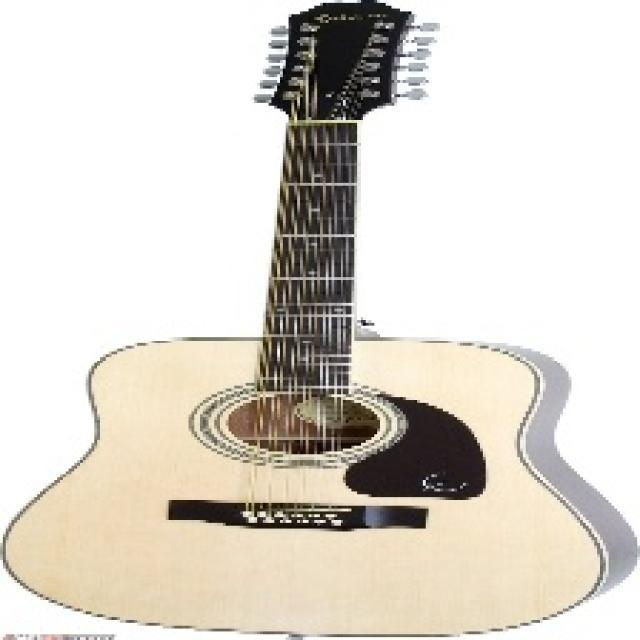acousticguitar: (4, 2, 635, 634)
